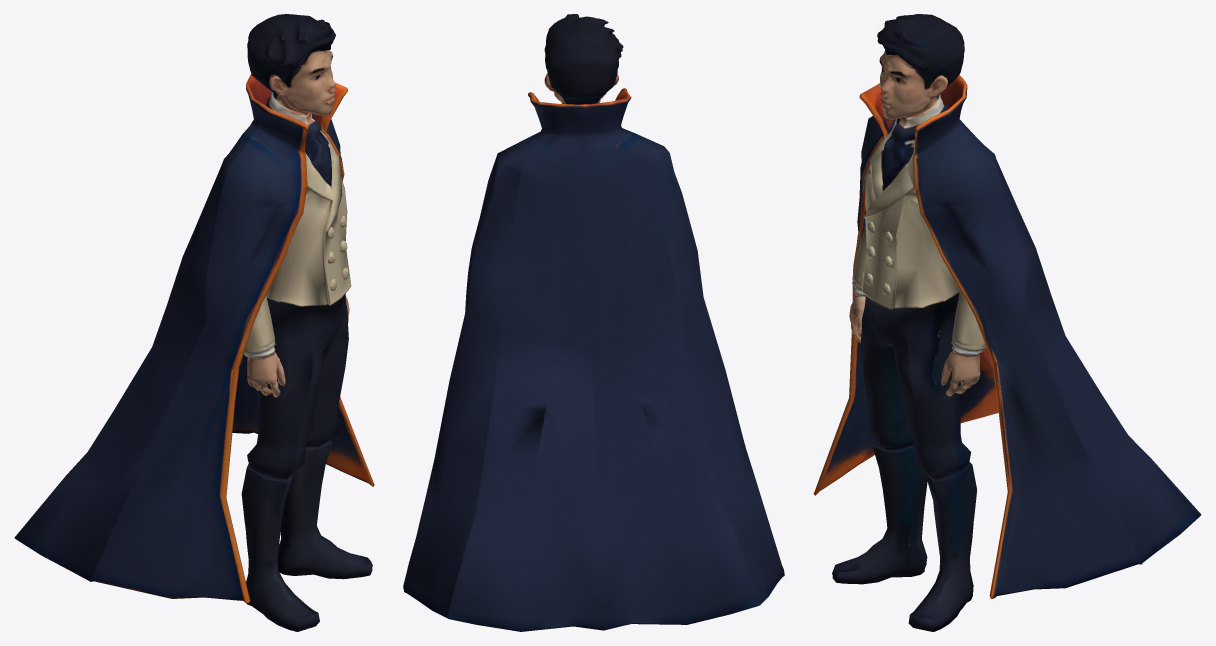
Rendered from king2-tripo.glb.
3 views of the same model, side by side, from view 1: azimuth 30°, elevation 25°; view 2: azimuth 150°, elevation 25°; view 3: azimuth 270°, elevation 25° (orthographic).
Parts seen in each view (by area): view 1: tripo_node_4e0b256c-31eb-4200-85f1-73c9f54b58f8; view 2: tripo_node_4e0b256c-31eb-4200-85f1-73c9f54b58f8; view 3: tripo_node_4e0b256c-31eb-4200-85f1-73c9f54b58f8.
Boxes of the visible parts, x1,y1,x2,y2 form: tripo_node_4e0b256c-31eb-4200-85f1-73c9f54b58f8: (14, 14, 374, 631); tripo_node_4e0b256c-31eb-4200-85f1-73c9f54b58f8: (403, 14, 784, 631); tripo_node_4e0b256c-31eb-4200-85f1-73c9f54b58f8: (813, 14, 1201, 631).
Size of the model in its own units: 1.14 by 1.8 by 1.1.
1 material, 1 textured.
